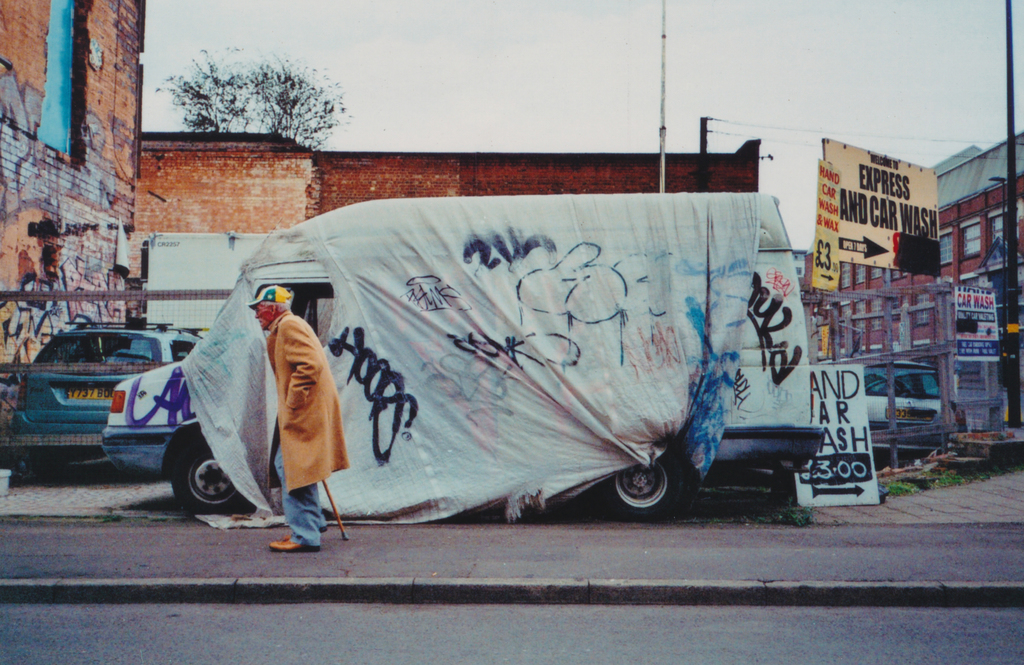car: (18, 303, 220, 467), (876, 364, 945, 449)
